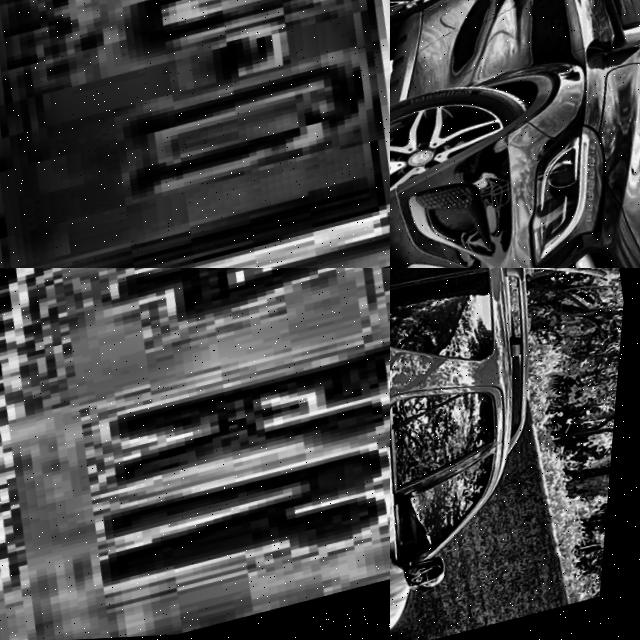license-plate: (0, 268, 390, 640), (0, 0, 390, 268)
